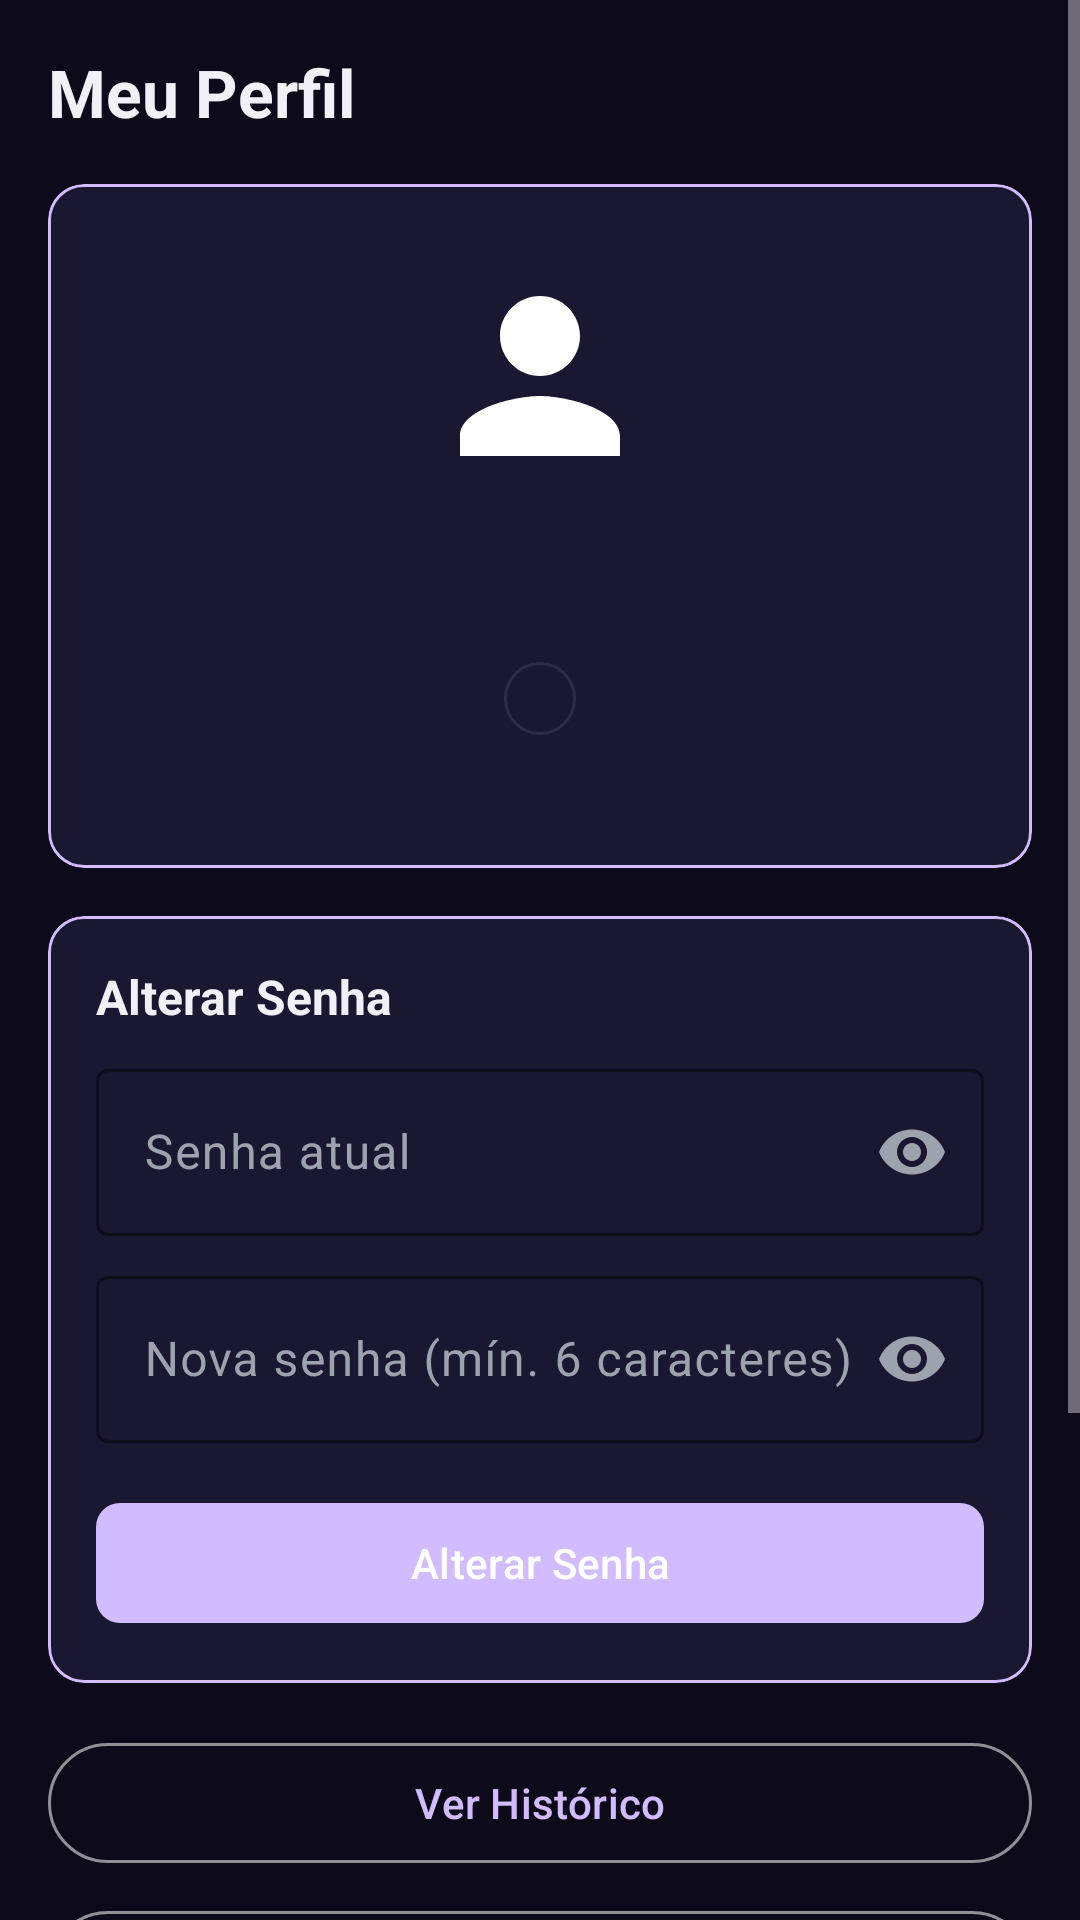

Screen size 1080x1920. Icon name, then its center in pixels as point (x, y):
person: point (540, 376)
